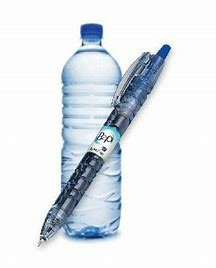pen: (39, 45, 172, 248)
